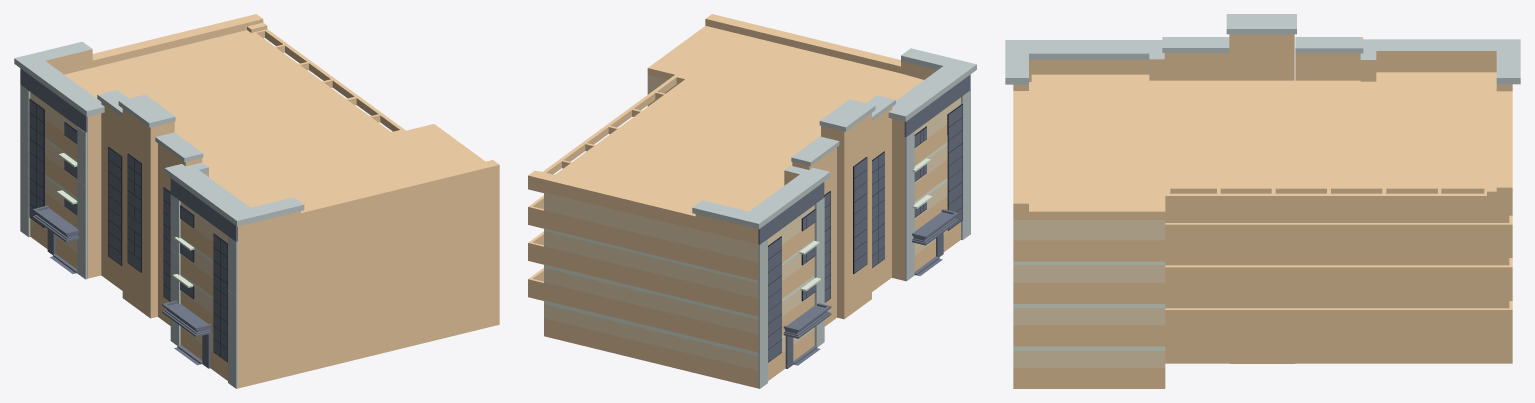
File: Admin.glb
3 views of the same model, side by side, from view 1: azimuth 30°, elevation 25°; view 2: azimuth 150°, elevation 25°; view 3: azimuth 270°, elevation 25° (orthographic). The views are drawn at different scales.
Parts seen in each view (by area): view 1: Cube.175; view 2: Cube.175; view 3: Cube.175.
Part boxes in pixels (x1,y1,x2,y2): Cube.175: (14,14,499,388); Cube.175: (528,14,976,388); Cube.175: (1005,14,1520,388).
Size of what is drawn, in the model's own units: 30.94 by 21.02 by 42.92.
